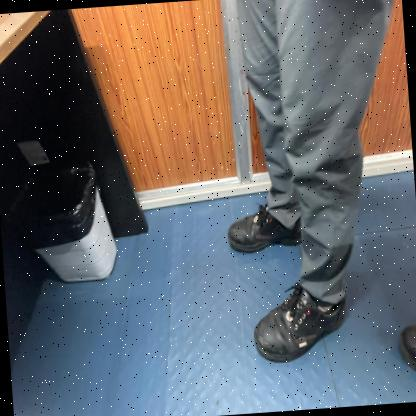bota: (250, 278, 350, 366), (225, 200, 303, 256)
